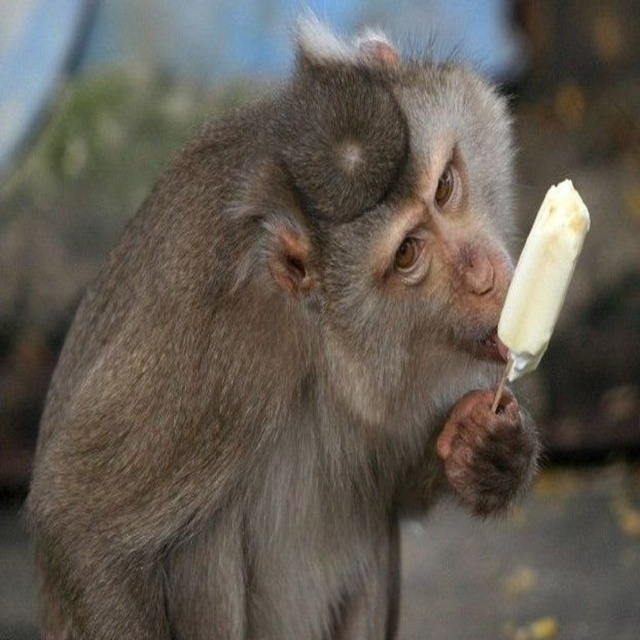Monkey: (26, 7, 542, 639)
